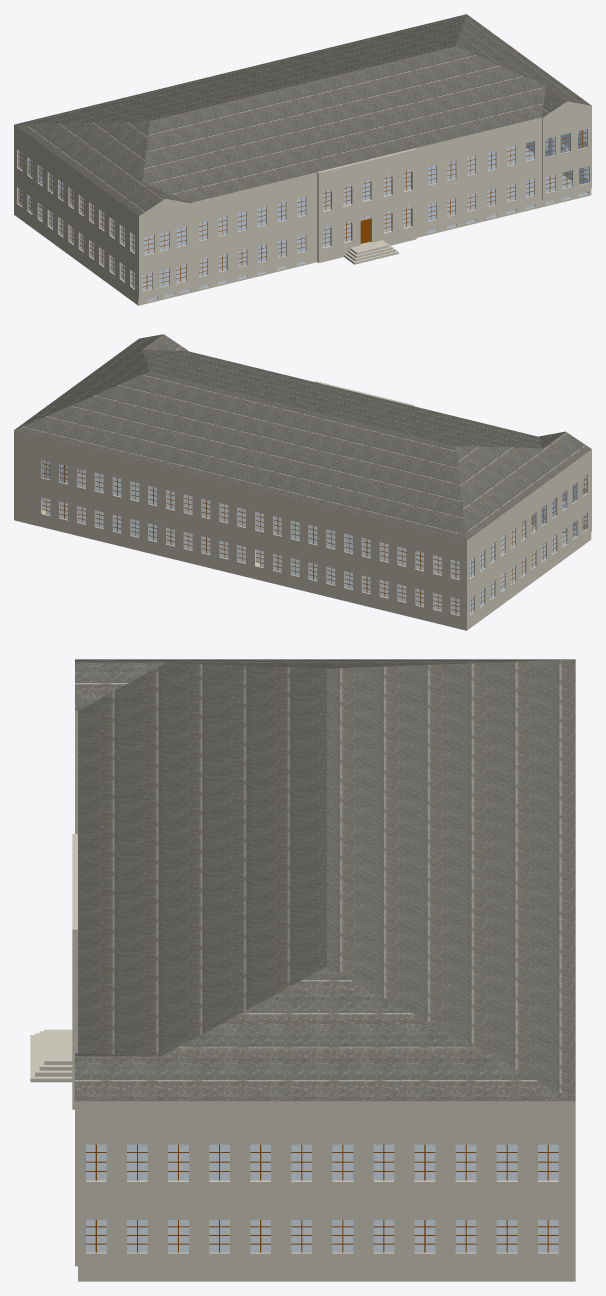
Rendered from gubernskoe-pravlenie.glb.
3 views of the same model, one above another, from view 1: azimuth 30°, elevation 25°; view 2: azimuth 150°, elevation 25°; view 3: azimuth 270°, elevation 25° (orthographic). The views are drawn at different scales.
Parts seen in each view (by area): view 1: Geom3D (×4); view 2: Geom3D (×4); view 3: Geom3D (×4).
Boxes of the visible parts, x1,y1,x2,y2 form: Geom3D (×4): [14, 14, 591, 305]; Geom3D (×4): [14, 334, 591, 630]; Geom3D (×4): [30, 659, 575, 1281].
Bounding box in the file's own units: 56 × 14.35 × 29.21.
Materials: 4 (1 with a texture image).
